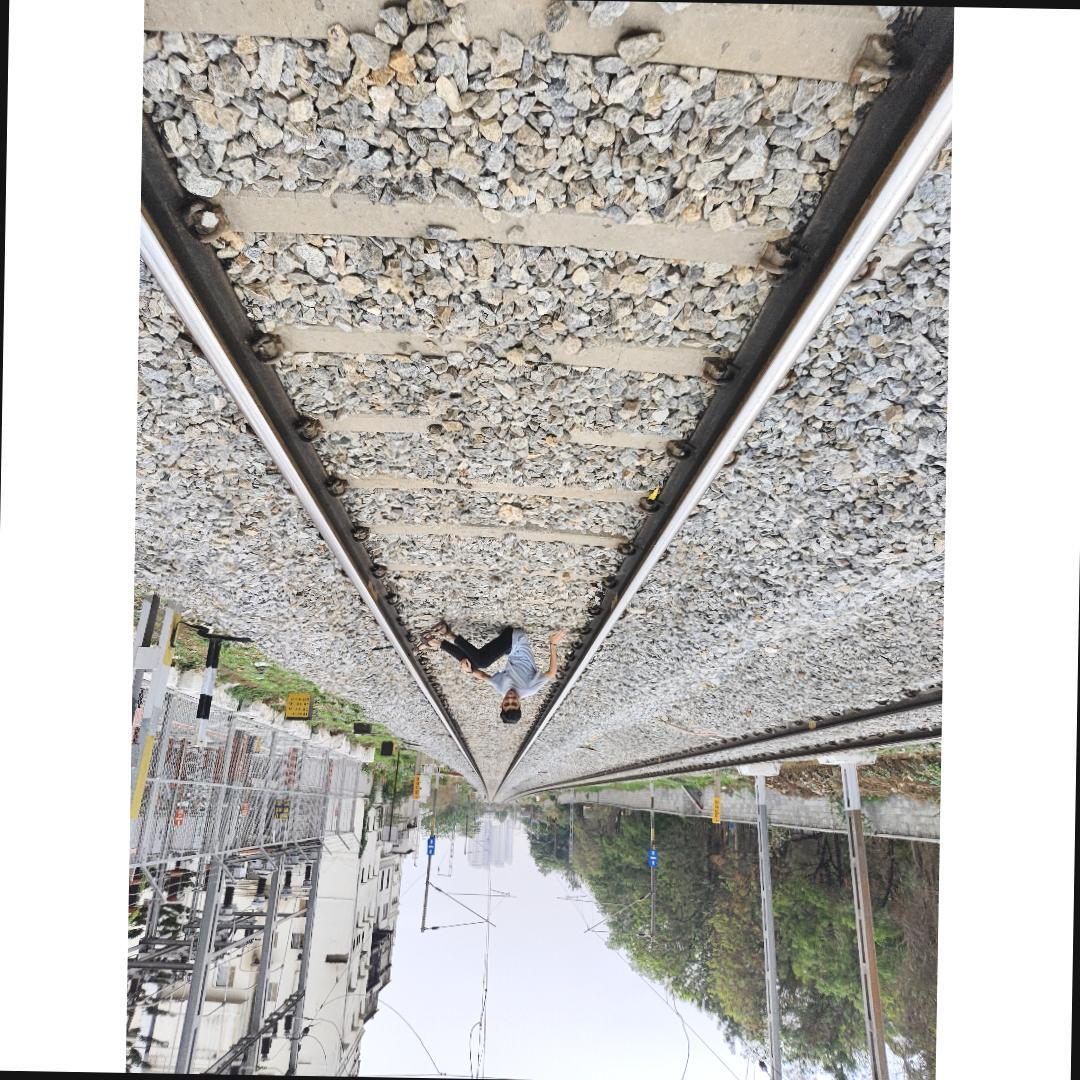sitting: (418, 619, 569, 727)
track: (139, 0, 954, 813)
